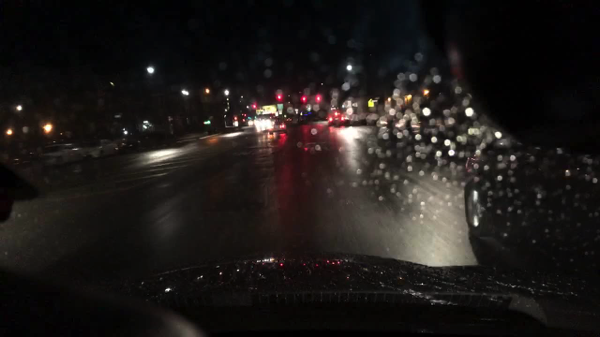car: (463, 137, 599, 275), (0, 156, 52, 191), (39, 142, 90, 167), (385, 117, 431, 144), (141, 131, 177, 150), (85, 138, 118, 158), (115, 140, 143, 154), (328, 112, 348, 127), (270, 121, 287, 135), (299, 115, 308, 125), (257, 118, 263, 131), (263, 119, 270, 128), (247, 119, 254, 126), (313, 115, 320, 121)
traffic light: (277, 92, 282, 104), (316, 95, 320, 104), (302, 95, 306, 104), (206, 119, 211, 125), (253, 102, 256, 111), (235, 114, 237, 121)
traffic sign: (369, 98, 374, 107)
